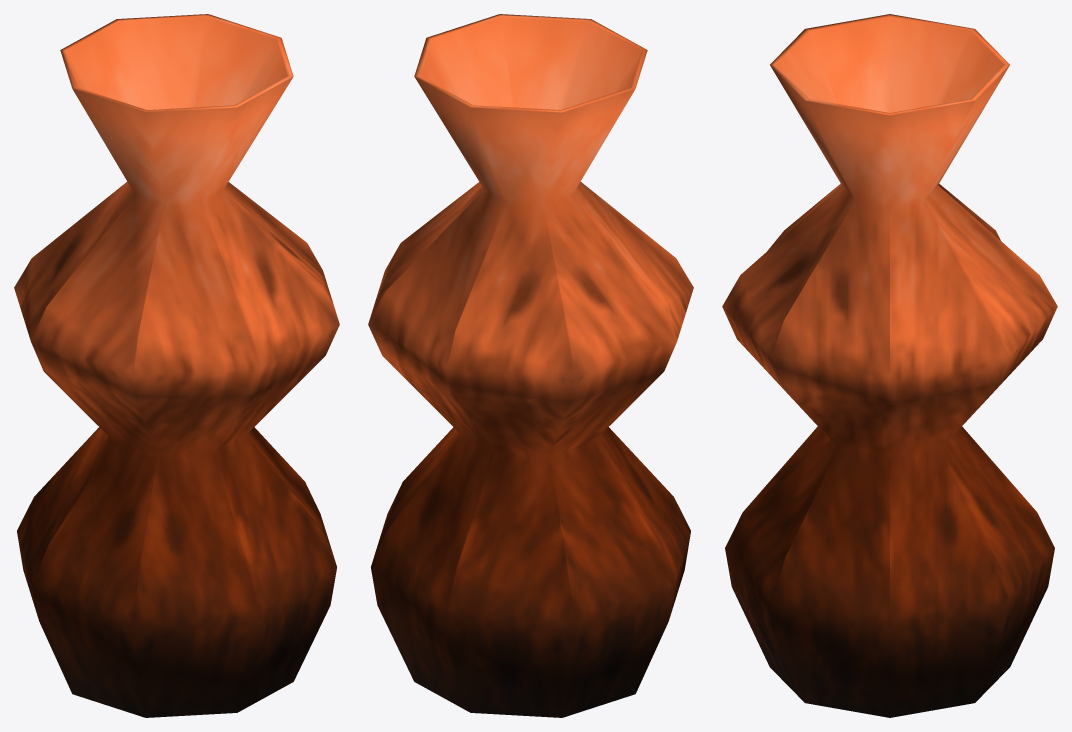
File: Vase_03_F.FBX
3 views of the same model, side by side, from view 1: azimuth 30°, elevation 25°; view 2: azimuth 150°, elevation 25°; view 3: azimuth 270°, elevation 25° (orthographic).
Parts seen in each view (by area): view 1: Vase_03; view 2: Vase_03; view 3: Vase_03.
Boxes of the visible parts, <box> form: Vase_03: <box>14,14,339,717</box>; Vase_03: <box>368,14,693,717</box>; Vase_03: <box>722,14,1057,717</box>.
Size of the model in its own units: 41.27 by 81.72 by 41.27.
